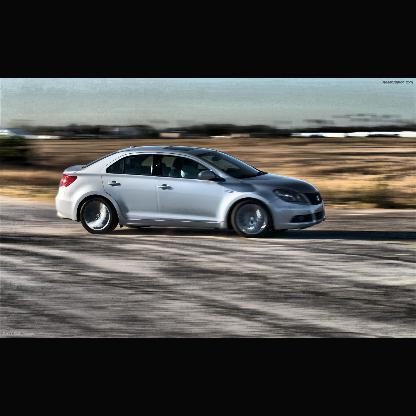Suzuki Kizashi Sedan 2012: (56, 146, 326, 236)
